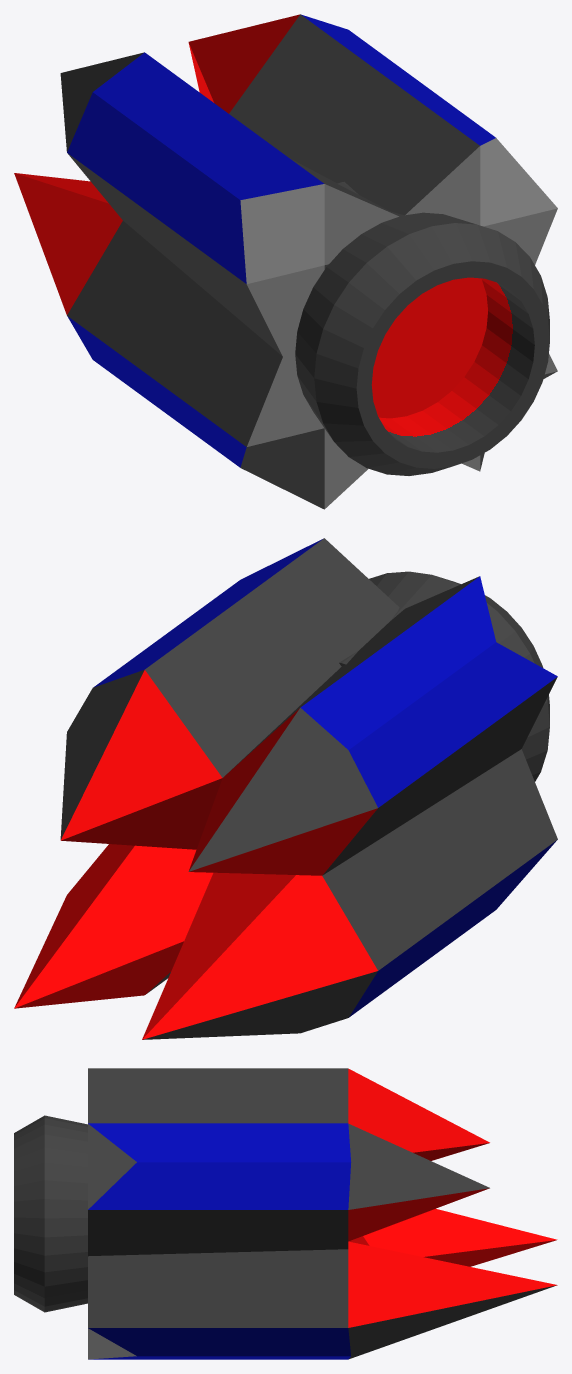
The model's file is Lvl4Enemy.fbx.
3 views of the same model, one above another, from view 1: azimuth 30°, elevation 25°; view 2: azimuth 150°, elevation 25°; view 3: azimuth 270°, elevation 25° (orthographic). The views are drawn at different scales.
Parts seen in each view (by area): view 1: Cube, Cylinder; view 2: Cube, Cylinder; view 3: Cube, Cylinder.
Part boxes in pixels (x1,y1,x2,y2): Cube: [14, 14, 557, 509]; Cylinder: [295, 181, 549, 475]; Cube: [14, 538, 557, 1039]; Cylinder: [339, 571, 549, 781]; Cube: [88, 1068, 557, 1359]; Cylinder: [14, 1115, 87, 1312].
Bounding box in the file's own units: 200 × 200 × 418.
